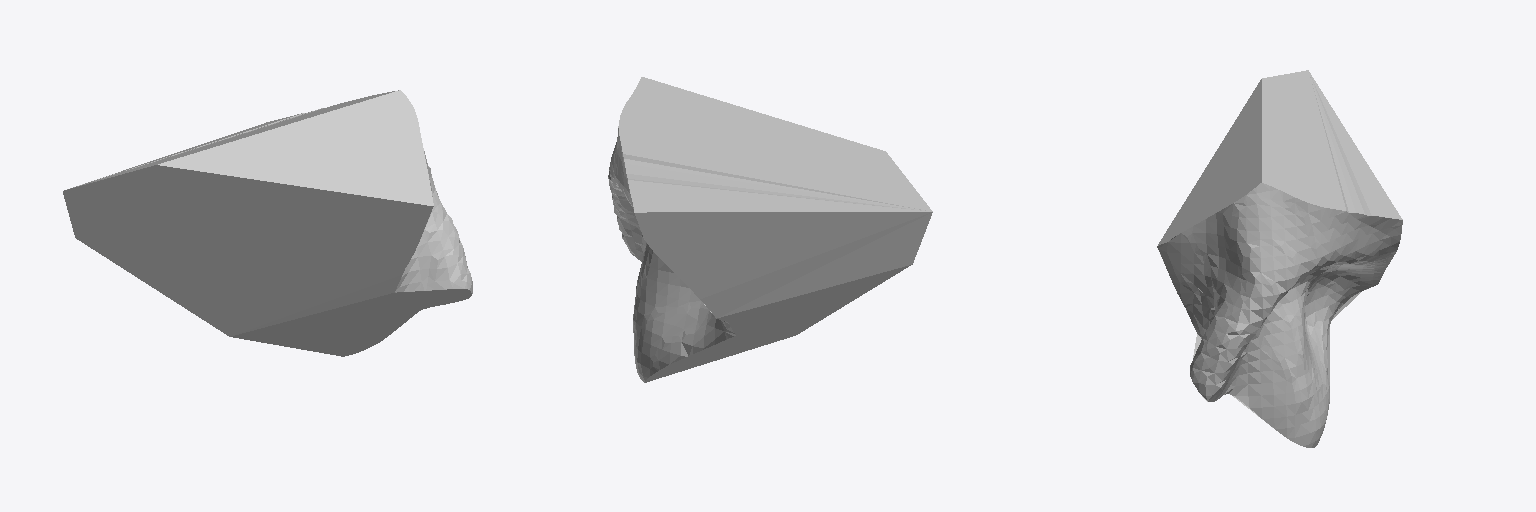
The model's file is low_cell_062.obj.
3 views of the same model, side by side, from view 1: azimuth 30°, elevation 25°; view 2: azimuth 150°, elevation 25°; view 3: azimuth 270°, elevation 25° (orthographic).
Visible parts, largest first — view 1: low_cell.062_low_cell.061; view 2: low_cell.062_low_cell.061; view 3: low_cell.062_low_cell.061.
Boxes of the visible parts, <box> form: low_cell.062_low_cell.061: <box>63,90,472,356</box>; low_cell.062_low_cell.061: <box>608,77,932,382</box>; low_cell.062_low_cell.061: <box>1157,70,1402,447</box>.
Bounding box in the file's own units: 0.6553 × 0.4881 × 0.3893.